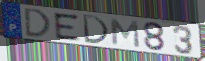3: (172, 24, 194, 56)
8: (142, 21, 166, 52)
D: (81, 13, 111, 46), (24, 7, 53, 39)
E: (52, 12, 83, 42)
M: (109, 18, 141, 50)
